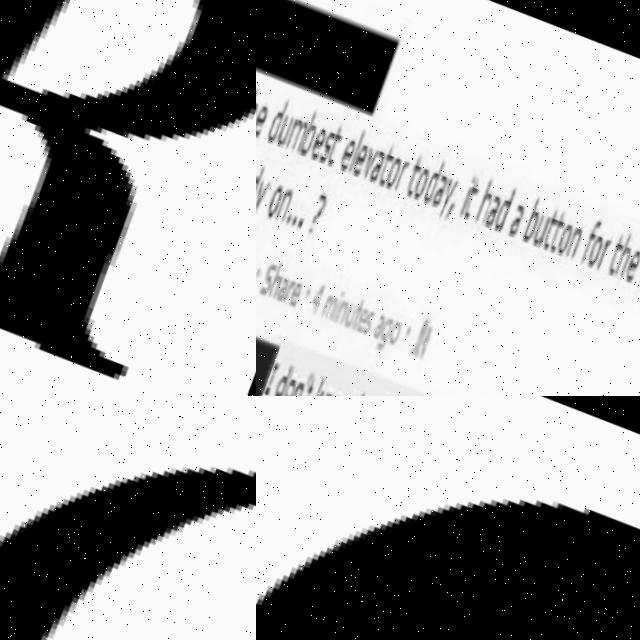4: (299, 280, 324, 319)
A: (499, 202, 526, 241), (361, 148, 387, 186), (423, 175, 448, 212), (477, 195, 501, 232), (267, 277, 289, 306), (363, 312, 383, 343)
B: (291, 110, 323, 161), (514, 197, 546, 248)
D: (414, 159, 445, 209), (260, 99, 290, 147), (486, 189, 515, 236), (262, 361, 290, 396), (256, 164, 264, 212)
E: (344, 143, 371, 181), (303, 127, 329, 165), (614, 251, 640, 289), (331, 138, 357, 176), (346, 309, 366, 336), (280, 282, 299, 310), (256, 103, 270, 141)
F: (571, 223, 600, 270), (630, 245, 640, 291)
G: (256, 396, 640, 640), (0, 396, 256, 640), (367, 319, 391, 355)
H: (607, 237, 636, 284), (468, 181, 497, 227), (260, 265, 283, 302), (256, 86, 265, 134)
I: (453, 177, 476, 219), (321, 289, 341, 326), (256, 361, 276, 396)
K: (300, 376, 325, 396)
L: (341, 130, 366, 175)
M: (279, 116, 309, 154), (312, 295, 336, 325)
N: (268, 189, 292, 226), (559, 228, 583, 264), (326, 301, 346, 329), (281, 380, 300, 396)
O: (404, 167, 431, 205), (577, 235, 603, 273), (376, 156, 402, 194), (547, 224, 573, 262), (259, 183, 285, 221), (377, 320, 400, 351), (272, 376, 293, 396)
R: (0, 0, 256, 396), (587, 241, 609, 276), (387, 160, 409, 195), (275, 280, 292, 307)
S: (312, 128, 337, 166), (256, 259, 276, 299), (353, 310, 371, 340)
T: (317, 122, 348, 172), (395, 154, 426, 202), (369, 144, 398, 191), (597, 235, 625, 282), (455, 177, 483, 223), (540, 214, 568, 257), (533, 211, 559, 254), (341, 297, 364, 335), (291, 376, 312, 396)
U: (524, 215, 548, 252), (270, 115, 294, 149), (335, 304, 354, 332)
V: (353, 147, 379, 185)
Y: (430, 179, 458, 222), (256, 176, 270, 224)
